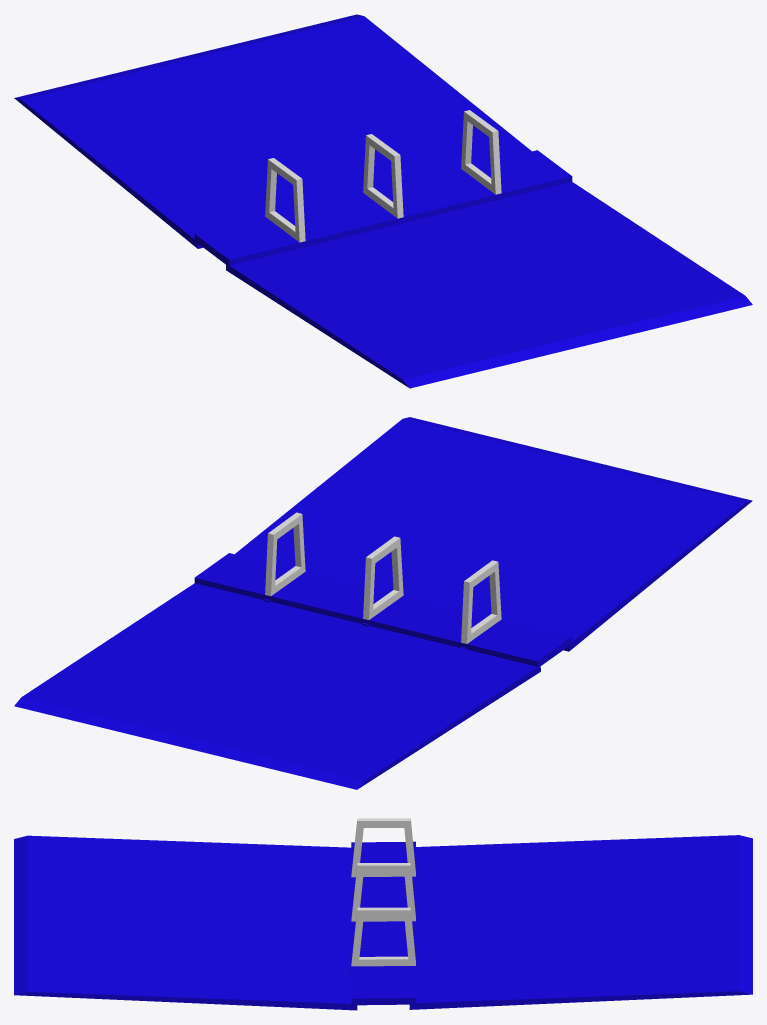
The model's file is BinderOpen.fbx.
3 renders of one model, top to bottom at view 1: azimuth 30°, elevation 25°; view 2: azimuth 150°, elevation 25°; view 3: azimuth 270°, elevation 25°, orthographic. The views are drawn at different scales.
Parts seen in each view (by area): view 1: BinderOpened; view 2: BinderOpened; view 3: BinderOpened.
Part boxes in pixels (<box>): BinderOpened: <box>14,14,752,388</box>; BinderOpened: <box>14,417,752,789</box>; BinderOpened: <box>14,818,752,1010</box>.
Bounding box in the file's own units: 32.03 × 6.5 × 64.04.
